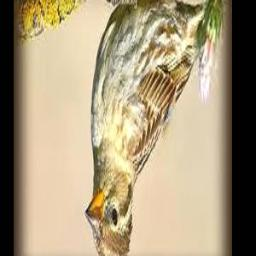Sparrow: (85, 0, 214, 256)
